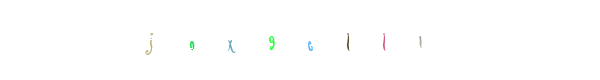1: (344, 0, 424, 80)
9: (229, 0, 309, 80)
E: (232, 0, 312, 80)
J: (201, 0, 281, 80)
L: (260, 0, 340, 80), (308, 0, 388, 80)
O: (202, 0, 282, 80)
X: (216, 0, 296, 80)
